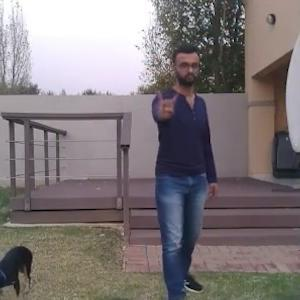takeoff-hand: (149, 74, 180, 120)
